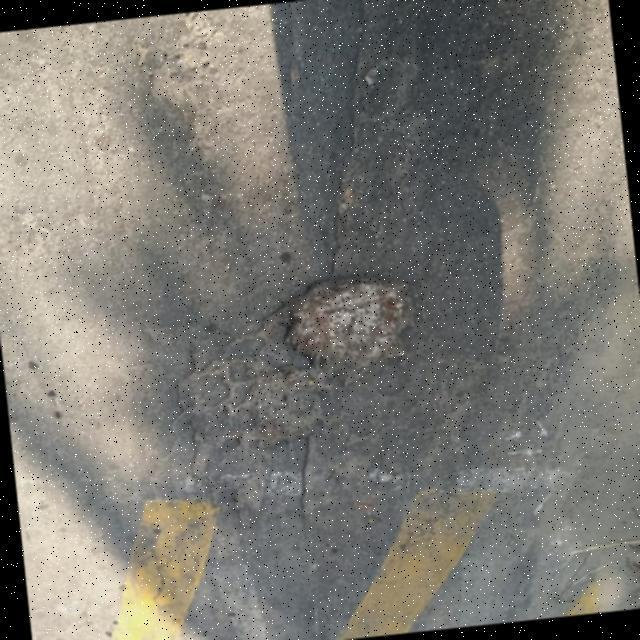Pothole: (279, 276, 410, 384)
